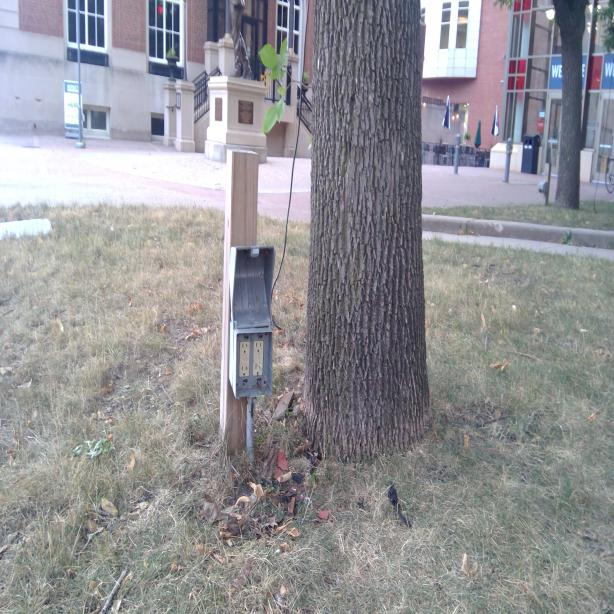typeb: (253, 339, 264, 358), (239, 340, 249, 359), (252, 360, 263, 376), (238, 362, 250, 376)
